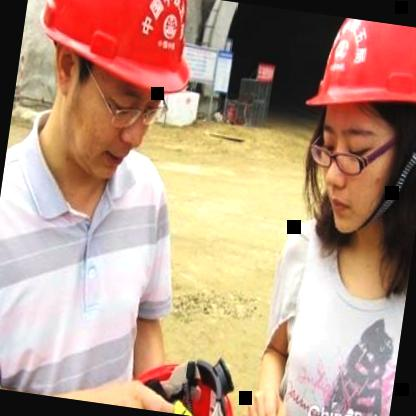helmet: (5, 0, 214, 201), (272, 11, 416, 263)
